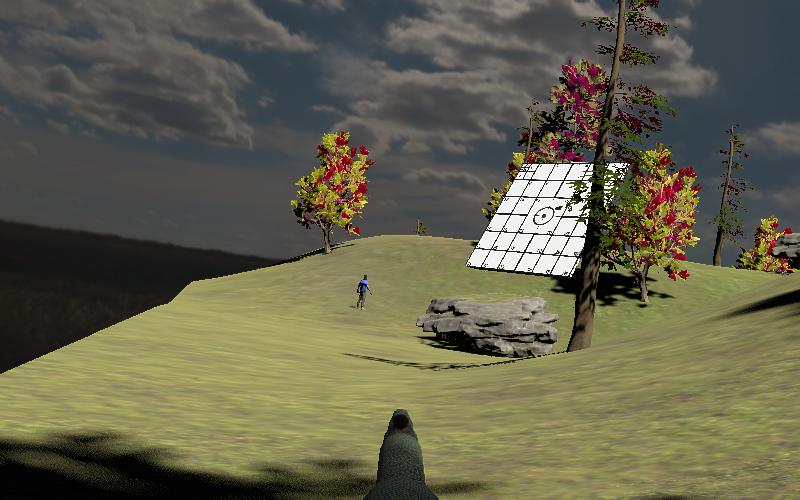Human: (353, 271, 375, 313)
